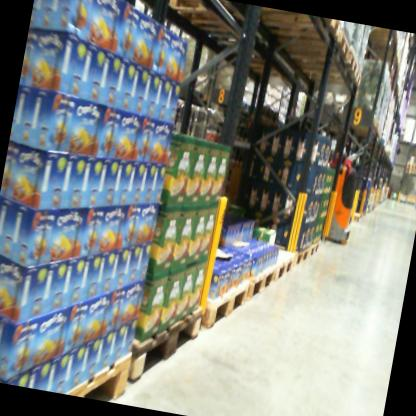pallet: (120, 294, 207, 396), (195, 260, 253, 344), (67, 339, 138, 404), (246, 5, 342, 47), (162, 0, 258, 37), (278, 22, 355, 60), (252, 242, 301, 290), (289, 43, 361, 75), (290, 58, 363, 85), (246, 260, 282, 305), (290, 239, 314, 276), (309, 235, 323, 260)
pallet_truck: (314, 134, 372, 245)
